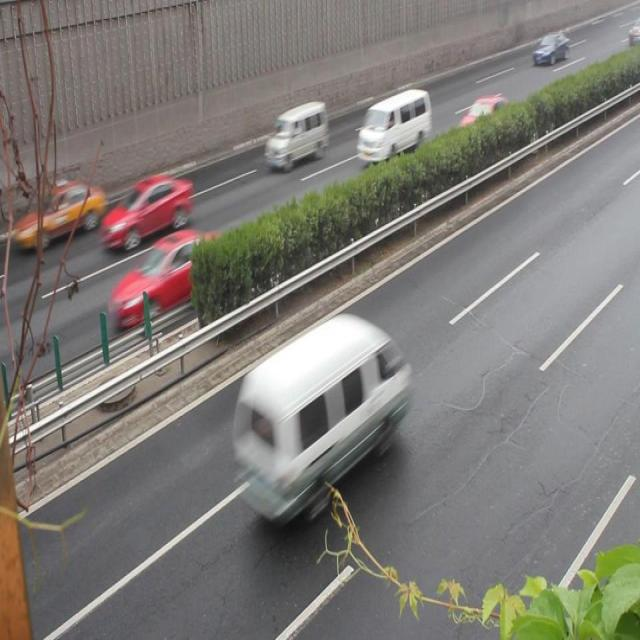car: (108, 229, 222, 329), (99, 172, 192, 249), (25, 179, 103, 248), (454, 96, 519, 156)
truck: (230, 315, 405, 523), (357, 89, 430, 163), (265, 100, 327, 169)
